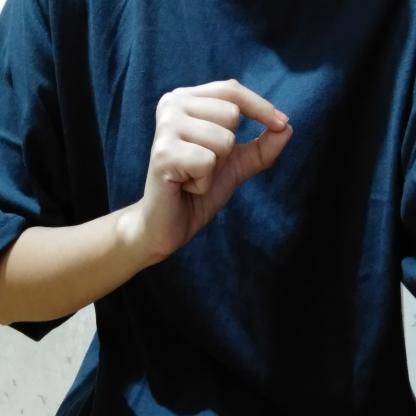nothing: (141, 76, 298, 266)
